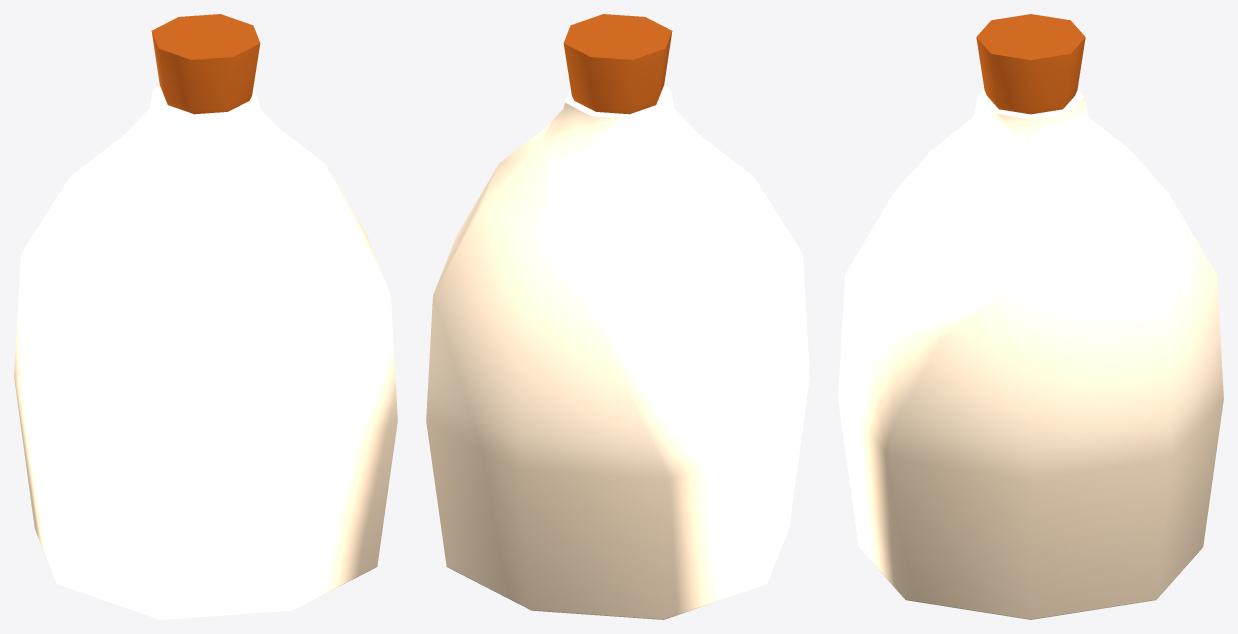
File: Bottle_empty.glb
The picture shows the model from 3 angles, left to right: view 1: azimuth 30°, elevation 25°; view 2: azimuth 150°, elevation 25°; view 3: azimuth 270°, elevation 25°; orthographic projection.
Visible parts, largest first — view 1: BigGlass; view 2: BigGlass; view 3: BigGlass.
Boxes of the visible parts, bbox=[...] form: BigGlass: bbox=[14, 14, 397, 619]; BigGlass: bbox=[426, 14, 809, 619]; BigGlass: bbox=[838, 14, 1223, 619].
Size of the model in its own units: 0.161 by 0.2348 by 0.161.
1 material, 1 textured.
